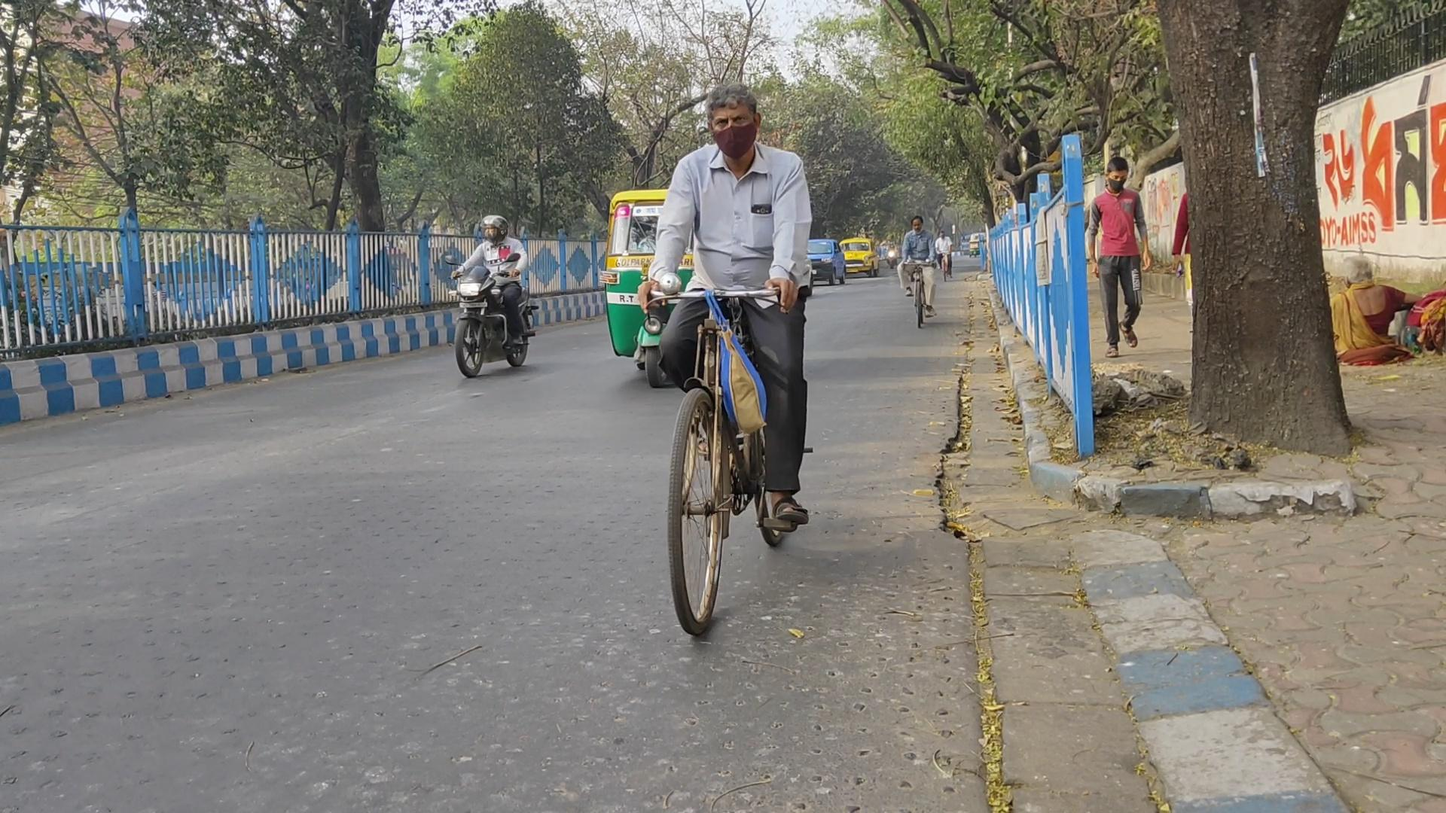Auto: (602, 189, 719, 388)
bike: (640, 86, 810, 636), (443, 214, 539, 378), (898, 218, 937, 330)
car: (808, 236, 846, 285), (840, 236, 878, 279)
